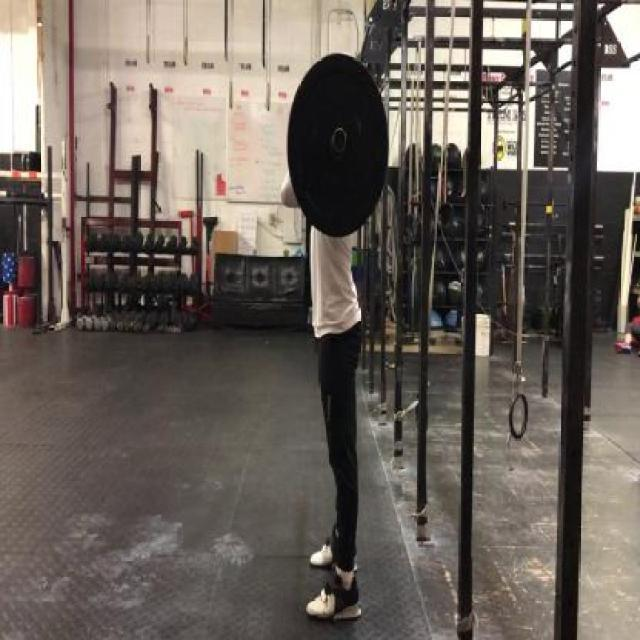barbell: (286, 47, 393, 246)
